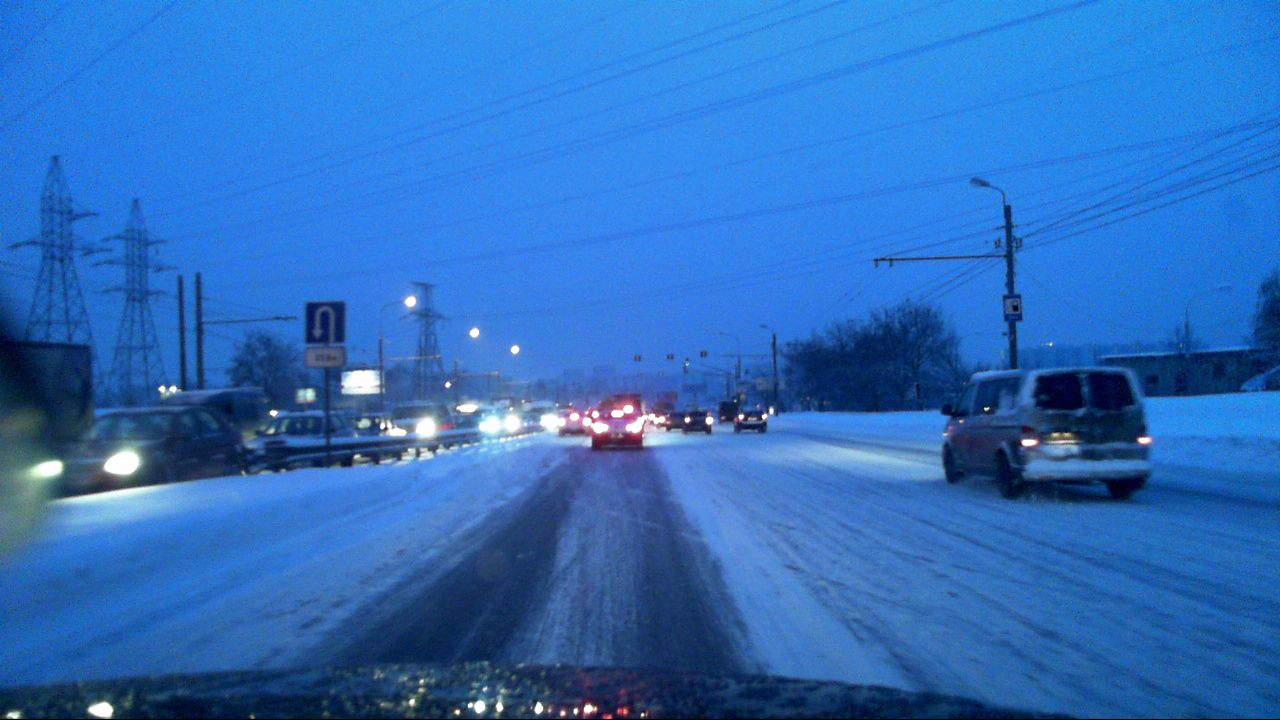U-turn: (306, 302, 344, 343)
